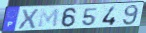4: (101, 5, 118, 26)
5: (81, 7, 99, 26)
6: (61, 7, 79, 29)
9: (122, 4, 140, 26)
M: (37, 8, 60, 29)
X: (17, 8, 40, 31)
